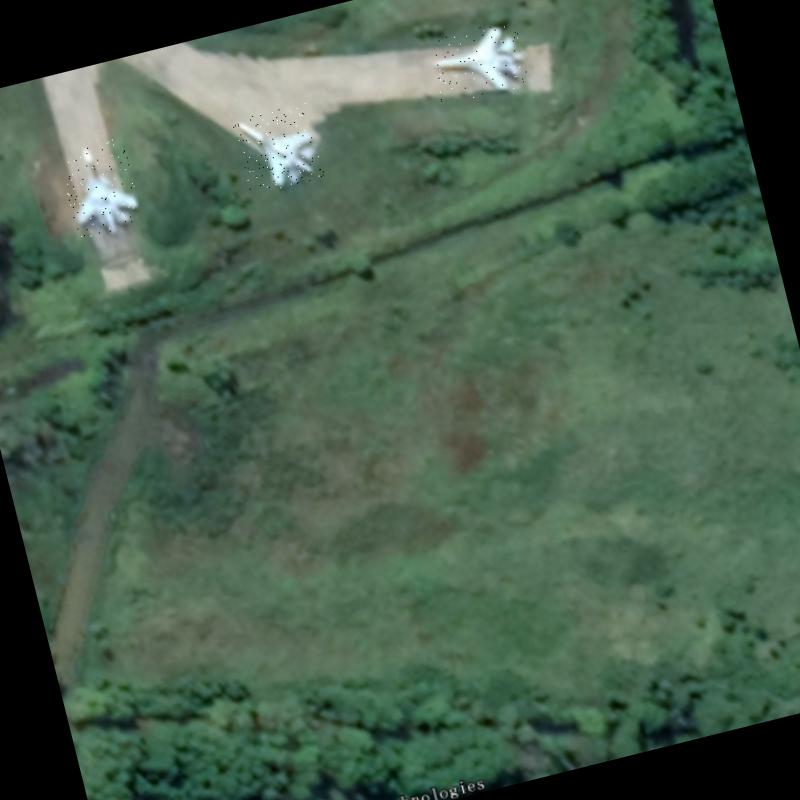A1: (424, 18, 531, 106), (231, 101, 325, 195)
A19: (57, 136, 144, 240)
